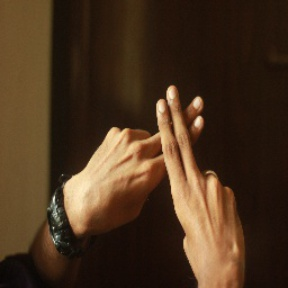F: (125, 76, 222, 193)
